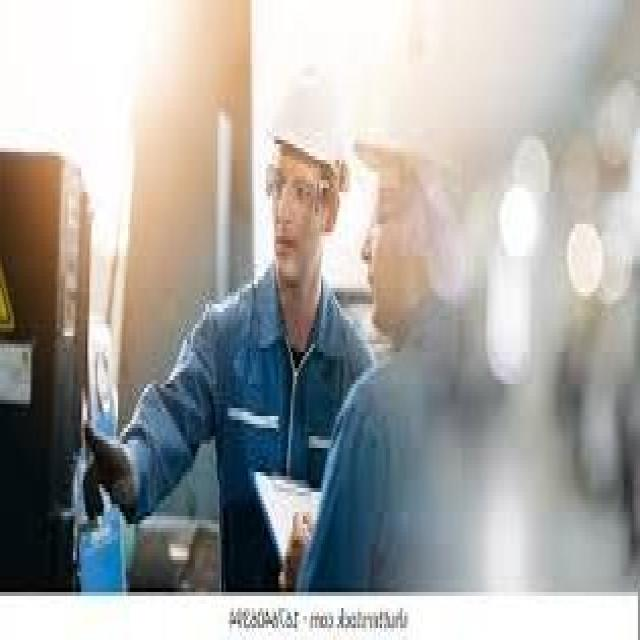Safety-Helmet: (260, 40, 366, 180)
